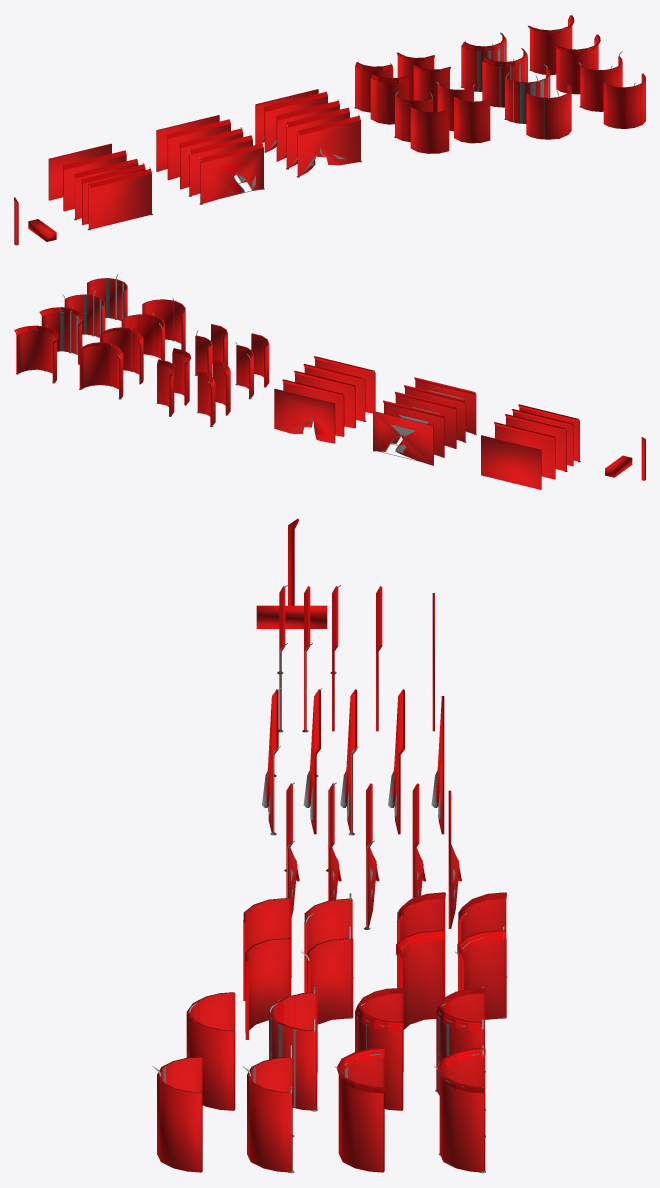
The model's file is chainlink_fence_with_proxy.obj.
3 renders of one model, top to bottom at view 1: azimuth 30°, elevation 25°; view 2: azimuth 150°, elevation 25°; view 3: azimuth 270°, elevation 25°, orthographic. The views are drawn at different scales.
Parts seen in each view (by area): view 1: chainlink_fence, chainlink_fence_damaged_b, chainlink_fence_damaged_a, chainlink_fence_inner_corner180_nocol_nowire, chainlink_fence_outer_corner180_nocol_nowire, chainlink_fence_inner_corner90_nocol_nowire, chainlink_fence_outer_corner180, chainlink_fence_outer_corner90_nocol_nowire, chainlink_fence_inner_corner180_nocol, chainlink_fence_outer_corner180_nocol, chainlink_fence_inner_corner90_nocol, chainlink_fence_inner_corner180 (+20 smaller); view 2: chainlink_fence_no_columns_no_wire, chainlink_fence_damaged_a_no_columns_no_wire, chainlink_fence_damaged_b_no_columns_no_wire, chainlink_fence_inner_corner180, chainlink_fence_outer_corner180, chainlink_fence_outer_corner180_nocol, chainlink_fence_no_columns, chainlink_fence_inner_corner180_nocol, chainlink_fence_inner_corner180_nocol_nowire, chainlink_fence_outer_corner180_nocol_nowire, chainlink_fence_inner_corner180_nowire, chainlink_fence_damaged_b_no_columns (+20 smaller); view 3: chainlink_fence_outer_corner180, chainlink_fence_outer_corner180_nocol, chainlink_fence_outer_corner180_nowire, chainlink_fence_outer_corner180_nocol_nowire, chainlink_fence_inner_corner180_nocol_nowire, chainlink_fence_inner_corner180_nowire, chainlink_fence_inner_corner180_nocol, chainlink_fence_outer_corner90_nocol, chainlink_fence_outer_corner90_nowire, chainlink_fence_outer_corner90_nocol_nowire, chainlink_fence_outer_corner90, chainlink_fence_inner_corner180 (+15 smaller).
Part boxes in pixels (x1,y1,x2,y2): chainlink_fence: [87, 167, 152, 230]; chainlink_fence_damaged_b: [199, 142, 264, 204]; chainlink_fence_damaged_a: [296, 114, 361, 177]; chainlink_fence_inner_corner180_nocol_nowire: [526, 83, 571, 139]; chainlink_fence_outer_corner180_nocol_nowire: [603, 73, 645, 128]; chainlink_fence_inner_corner90_nocol_nowire: [410, 107, 449, 153]; chainlink_fence_outer_corner180: [528, 14, 574, 75]; chainlink_fence_outer_corner90_nocol_nowire: [454, 96, 490, 143]; chainlink_fence_inner_corner180_nocol: [482, 48, 527, 107]; chainlink_fence_outer_corner180_nocol: [554, 34, 600, 94]; chainlink_fence_inner_corner90_nocol: [370, 73, 409, 124]; chainlink_fence_inner_corner180: [460, 32, 506, 91]; chainlink_fence_no_columns_no_wire: [481, 435, 541, 489]; chainlink_fence_damaged_a_no_columns_no_wire: [274, 388, 335, 443]; chainlink_fence_damaged_b_no_columns_no_wire: [373, 411, 433, 465]; chainlink_fence_inner_corner180: [79, 342, 123, 399]; chainlink_fence_outer_corner180: [14, 325, 58, 383]; chainlink_fence_outer_corner180_nocol: [39, 307, 83, 364]; chainlink_fence_no_columns: [494, 422, 555, 479]; chainlink_fence_inner_corner180_nocol: [100, 327, 143, 384]; chainlink_fence_inner_corner180_nocol_nowire: [142, 298, 185, 350]; chainlink_fence_outer_corner180_nocol_nowire: [87, 274, 127, 320]; chainlink_fence_inner_corner180_nowire: [121, 313, 165, 360]; chainlink_fence_damaged_b_no_columns: [383, 400, 444, 457]; chainlink_fence_outer_corner180: [434, 1045, 485, 1173]; chainlink_fence_outer_corner180_nocol: [334, 1047, 384, 1172]; chainlink_fence_outer_corner180_nowire: [242, 1045, 294, 1173]; chainlink_fence_outer_corner180_nocol_nowire: [152, 1056, 202, 1172]; chainlink_fence_inner_corner180_nocol_nowire: [186, 992, 235, 1110]; chainlink_fence_inner_corner180_nowire: [269, 987, 317, 1111]; chainlink_fence_inner_corner180_nocol: [355, 988, 403, 1110]; chainlink_fence_outer_corner90_nocol: [396, 930, 445, 1029]; chainlink_fence_outer_corner90_nowire: [301, 926, 353, 1024]; chainlink_fence_outer_corner90_nocol_nowire: [245, 938, 291, 1039]; chainlink_fence_outer_corner90: [455, 926, 506, 1019]; chainlink_fence_inner_corner180: [435, 987, 485, 1110].
Bounding box in the file's own units: 3935 × 287 × 1036.
